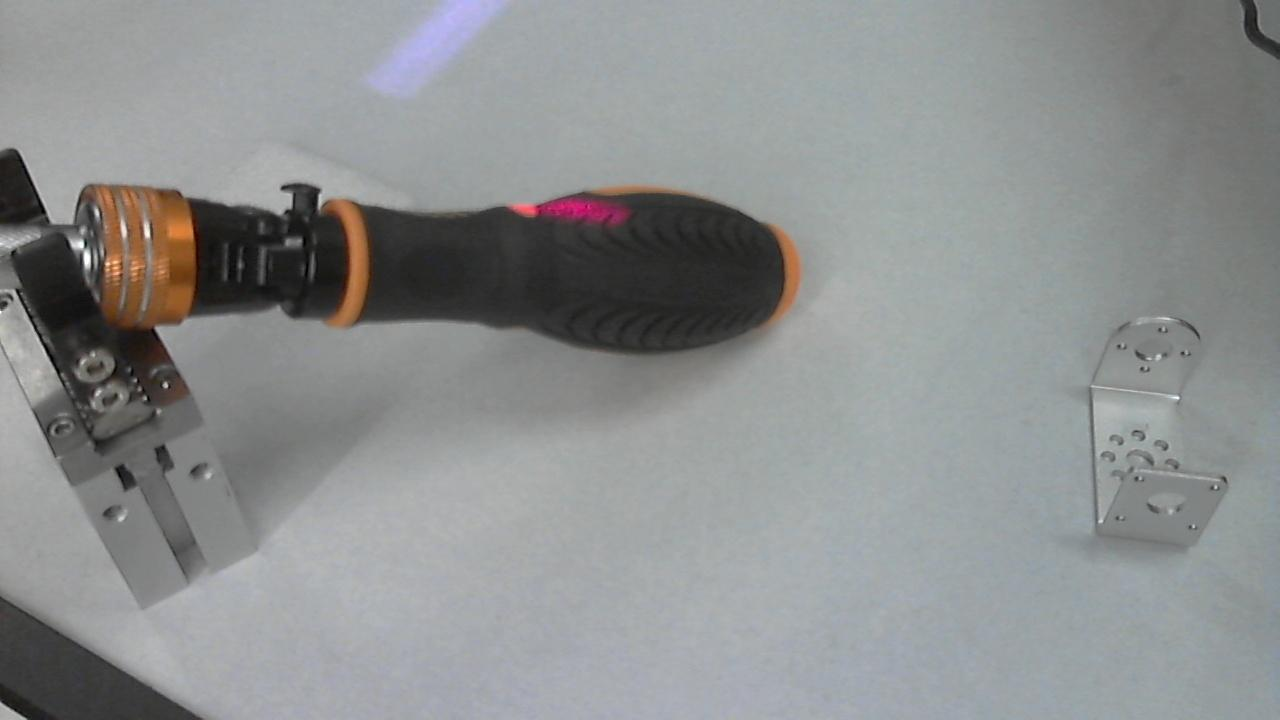Object precision screwdriver - Material rubber - Color black and orange - Pdfnam: (493, 182, 635, 231)
